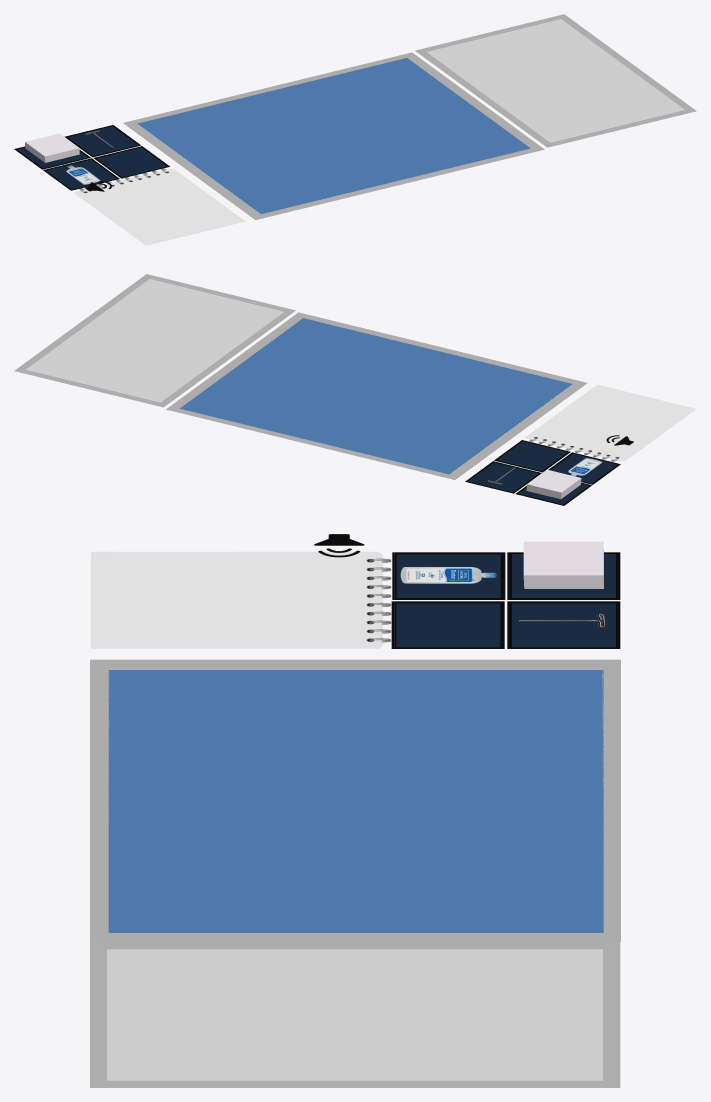
File: preservation.glb
3 views of the same model, one above another, from view 1: azimuth 30°, elevation 25°; view 2: azimuth 150°, elevation 25°; view 3: azimuth 270°, elevation 25° (orthographic). The views are drawn at different scales.
Parts seen in each view (by area): view 1: FrogDissectionTable, dissectionTray, notebook, BorderFrogDissectionTray, forcepsHandlerToolPlate.001, scissorHandlerToolPlate, styroPhome, forcepsHandlerToolPlate, scalpelHandlerToolPlate, ethylAlcohol; view 2: FrogDissectionTable, dissectionTray, notebook, BorderFrogDissectionTray, forcepsHandlerToolPlate.001, scissorHandlerToolPlate, styroPhome, forcepsHandlerToolPlate, scalpelHandlerToolPlate; view 3: FrogDissectionTable, dissectionTray, notebook, BorderFrogDissectionTray, forcepsHandlerToolPlate.001, scissorHandlerToolPlate, styroPhome, forcepsHandlerToolPlate, scalpelHandlerToolPlate, ethylAlcohol, ToolPlateBorder.002, ToolPlateBorder.003 (+1 smaller).
Boxes of the visible parts, x1=… form: FrogDissectionTable: x1=137, y1=58, x2=530, y2=214; dissectionTray: x1=415, y1=14, x2=696, y2=147; notebook: x1=75, y1=168, x2=245, y2=245; BorderFrogDissectionTray: x1=123, y1=52, x2=544, y2=219; forcepsHandlerToolPlate.001: x1=97, y1=147, x2=166, y2=177; scissorHandlerToolPlate: x1=67, y1=126, x2=137, y2=155; styroPhome: x1=25, y1=133, x2=79, y2=162; forcepsHandlerToolPlate: x1=46, y1=159, x2=116, y2=189; scalpelHandlerToolPlate: x1=17, y1=147, x2=87, y2=168; ethylAlcohol: x1=66, y1=165, x2=100, y2=184; FrogDissectionTable: x1=180, y1=318, x2=572, y2=474; dissectionTray: x1=14, y1=274, x2=295, y2=407; notebook: x1=525, y1=384, x2=695, y2=461; BorderFrogDissectionTray: x1=166, y1=312, x2=587, y2=479; forcepsHandlerToolPlate.001: x1=497, y1=441, x2=567, y2=470; scissorHandlerToolPlate: x1=468, y1=462, x2=538, y2=492; styroPhome: x1=526, y1=469, x2=581, y2=499; forcepsHandlerToolPlate: x1=550, y1=453, x2=617, y2=483; scalpelHandlerToolPlate: x1=518, y1=483, x2=588, y2=504; FrogDissectionTable: x1=108, y1=669, x2=603, y2=932; dissectionTray: x1=90, y1=942, x2=620, y2=1087; notebook: x1=91, y1=552, x2=391, y2=648; BorderFrogDissectionTray: x1=90, y1=659, x2=620, y2=941; forcepsHandlerToolPlate.001: x1=396, y1=603, x2=500, y2=647; scissorHandlerToolPlate: x1=512, y1=603, x2=615, y2=647; styroPhome: x1=523, y1=541, x2=603, y2=588; forcepsHandlerToolPlate: x1=396, y1=554, x2=500, y2=597; scalpelHandlerToolPlate: x1=512, y1=554, x2=615, y2=597; ethylAlcohol: x1=400, y1=567, x2=496, y2=583; ToolPlateBorder.002: x1=392, y1=552, x2=505, y2=599; ToolPlateBorder.003: x1=391, y1=601, x2=504, y2=648.
Size of the model in its own units: 8.3 by 0.157 by 3.47.
Materials: 17 (4 with a texture image).
